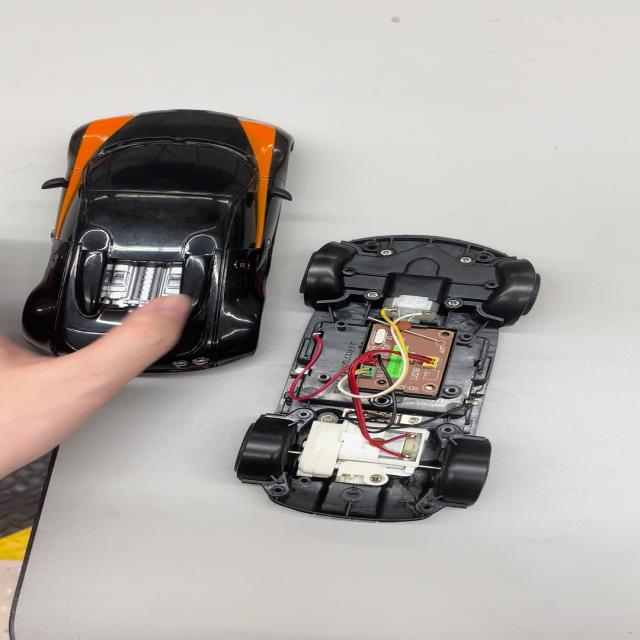Chassis: (234, 230, 547, 522)
vehicle_body: (25, 107, 298, 370)
